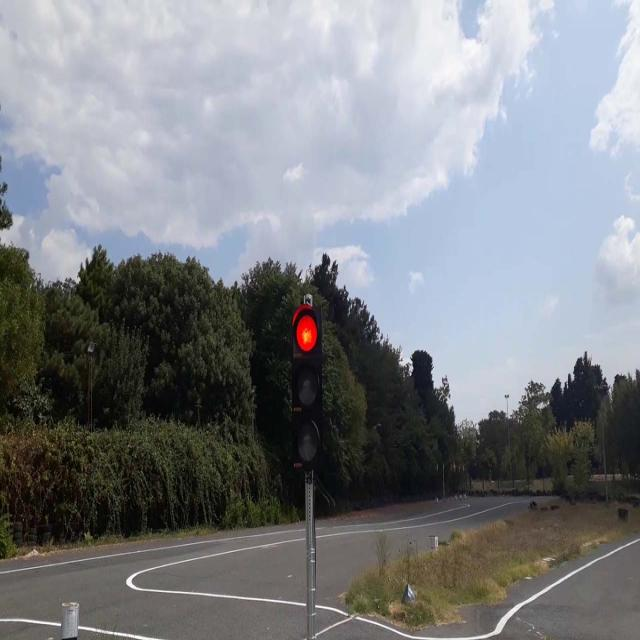kirmizi: (290, 305, 322, 468)
